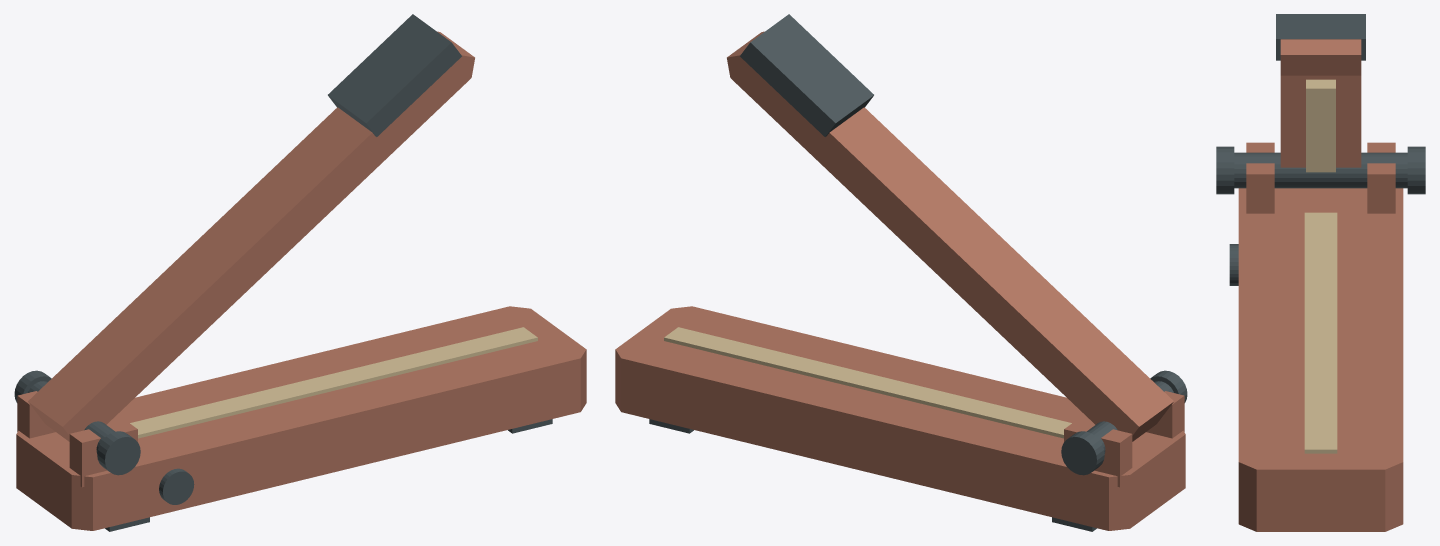
3 views of the same model, side by side, from view 1: azimuth 30°, elevation 25°; view 2: azimuth 150°, elevation 25°; view 3: azimuth 270°, elevation 25° (orthographic). The views are drawn at different scales.
Visible parts, largest first — view 1: WholeLongNarrowGroundedCase, WholeRaisedLongPressureBar, WholeRaisedEndPalmGrip, WholeLongRaisedBedStrip, WholeFrontEndHingeCheek, WholeExternalHingeRetainer-1, WholeBlankFrontDial, WholeBackEndHingeCheek; view 2: WholeLongNarrowGroundedCase, WholeRaisedLongPressureBar, WholeRaisedEndPalmGrip, WholeLongRaisedBedStrip, WholeBackEndHingeCheek, WholeExternalHingeRetainer1, WholeFrontEndHingeCheek; view 3: WholeLongNarrowGroundedCase, WholeLongRaisedBedStrip, WholeRaisedLongPressureBar, WholeTransverseEndHingePin, WholeLongUndersidePressurePad, WholeRaisedEndPalmGrip, WholeFrontEndHingeCheek, WholeBackEndHingeCheek, WholeExternalHingeRetainer-1, WholeExternalHingeRetainer1, WholeBlankFrontDial.
Boxes of the visible parts, box(x1,y1,x2,y2) form: WholeLongNarrowGroundedCase: box(16, 306, 586, 530); WholeRaisedLongPressureBar: box(28, 31, 474, 441); WholeRaisedEndPalmGrip: box(328, 14, 461, 136); WholeLongRaisedBedStrip: box(130, 327, 537, 438); WholeFrontEndHingeCheek: box(69, 420, 137, 487); WholeExternalHingeRetainer-1: box(97, 431, 140, 475); WholeBlankFrontDial: box(159, 468, 194, 504); WholeBackEndHingeCheek: box(17, 391, 55, 438); WholeLongNarrowGroundedCase: box(615, 306, 1185, 530); WholeRaisedLongPressureBar: box(727, 31, 1173, 441); WholeRaisedEndPalmGrip: box(740, 14, 873, 136); WholeLongRaisedBedStrip: box(664, 327, 1071, 438); WholeBackEndHingeCheek: box(1064, 420, 1132, 487); WholeExternalHingeRetainer1: box(1061, 431, 1104, 475); WholeFrontEndHingeCheek: box(1146, 391, 1184, 438); WholeLongNarrowGroundedCase: box(1238, 188, 1403, 531); WholeLongRaisedBedStrip: box(1304, 212, 1337, 453); WholeRaisedLongPressureBar: box(1280, 39, 1361, 167); WholeTransverseEndHingePin: box(1234, 152, 1407, 188); WholeLongUndersidePressurePad: box(1306, 79, 1335, 172); WholeRaisedEndPalmGrip: box(1276, 14, 1365, 60); WholeFrontEndHingeCheek: box(1246, 142, 1274, 213); WholeBackEndHingeCheek: box(1367, 142, 1395, 213); WholeExternalHingeRetainer-1: box(1216, 146, 1234, 194); WholeExternalHingeRetainer1: box(1407, 146, 1425, 194); WholeBlankFrontDial: box(1229, 244, 1238, 285).
Size of the model in its own units: 0.46 by 0.3383 by 0.14.
